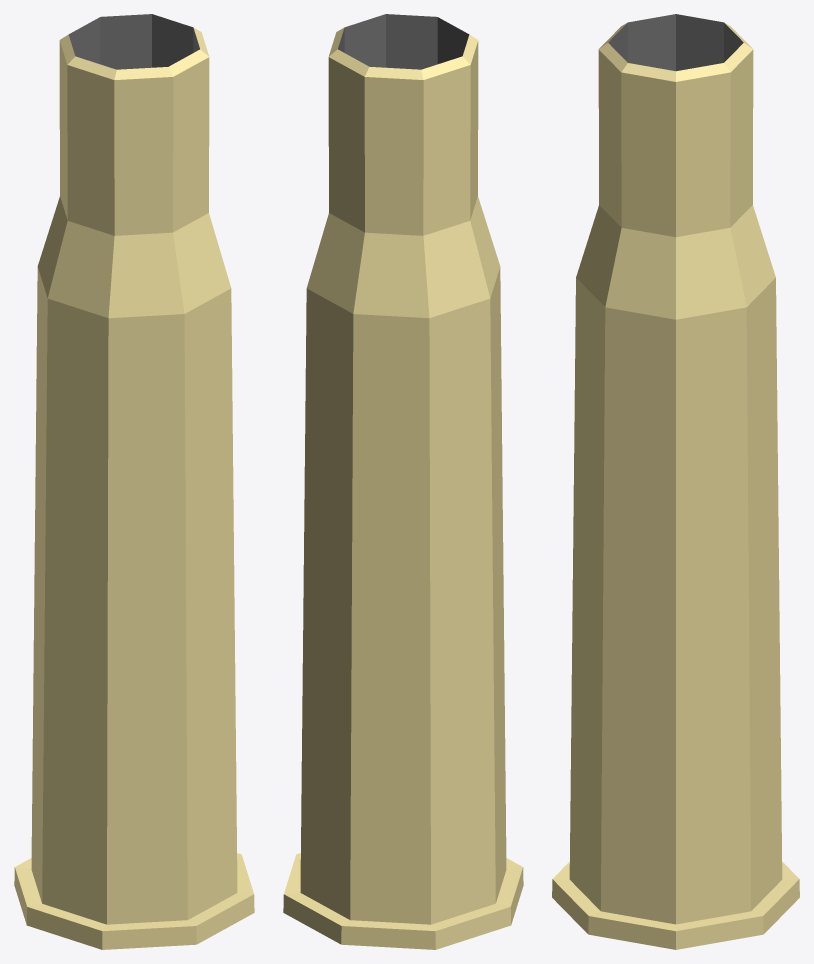
Rendered from cartridges7.fbx.
The picture shows the model from 3 angles, left to right: view 1: azimuth 30°, elevation 25°; view 2: azimuth 150°, elevation 25°; view 3: azimuth 270°, elevation 25°; orthographic projection.
Visible parts, largest first — view 1: Cylinder_5; view 2: Cylinder_5; view 3: Cylinder_5.
Part boxes in pixels (x1,y1,x2,y2): Cylinder_5: (14, 14, 254, 949); Cylinder_5: (283, 14, 523, 949); Cylinder_5: (552, 14, 799, 949).
Bounding box in the file's own units: 1.91 × 7.49 × 1.91.
